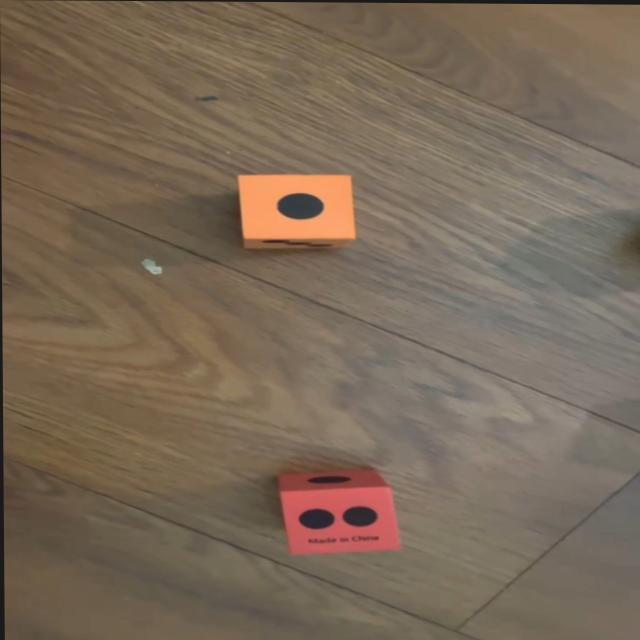red_block: (277, 467, 399, 555)
